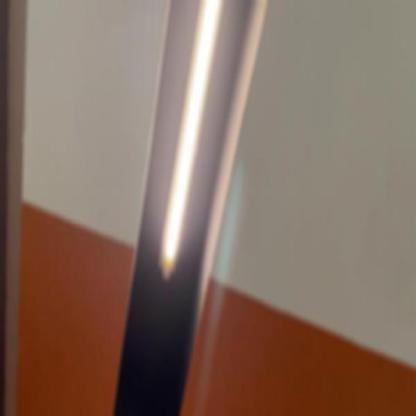light_on: (152, 0, 228, 304)
